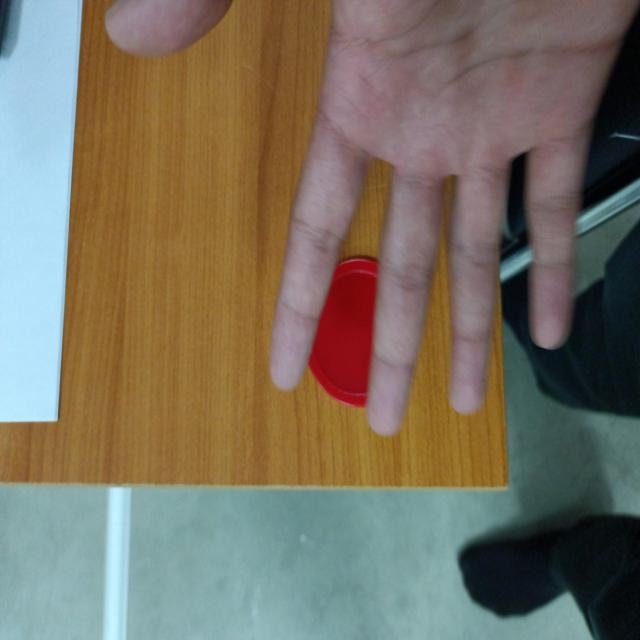chip: (304, 253, 382, 412)
